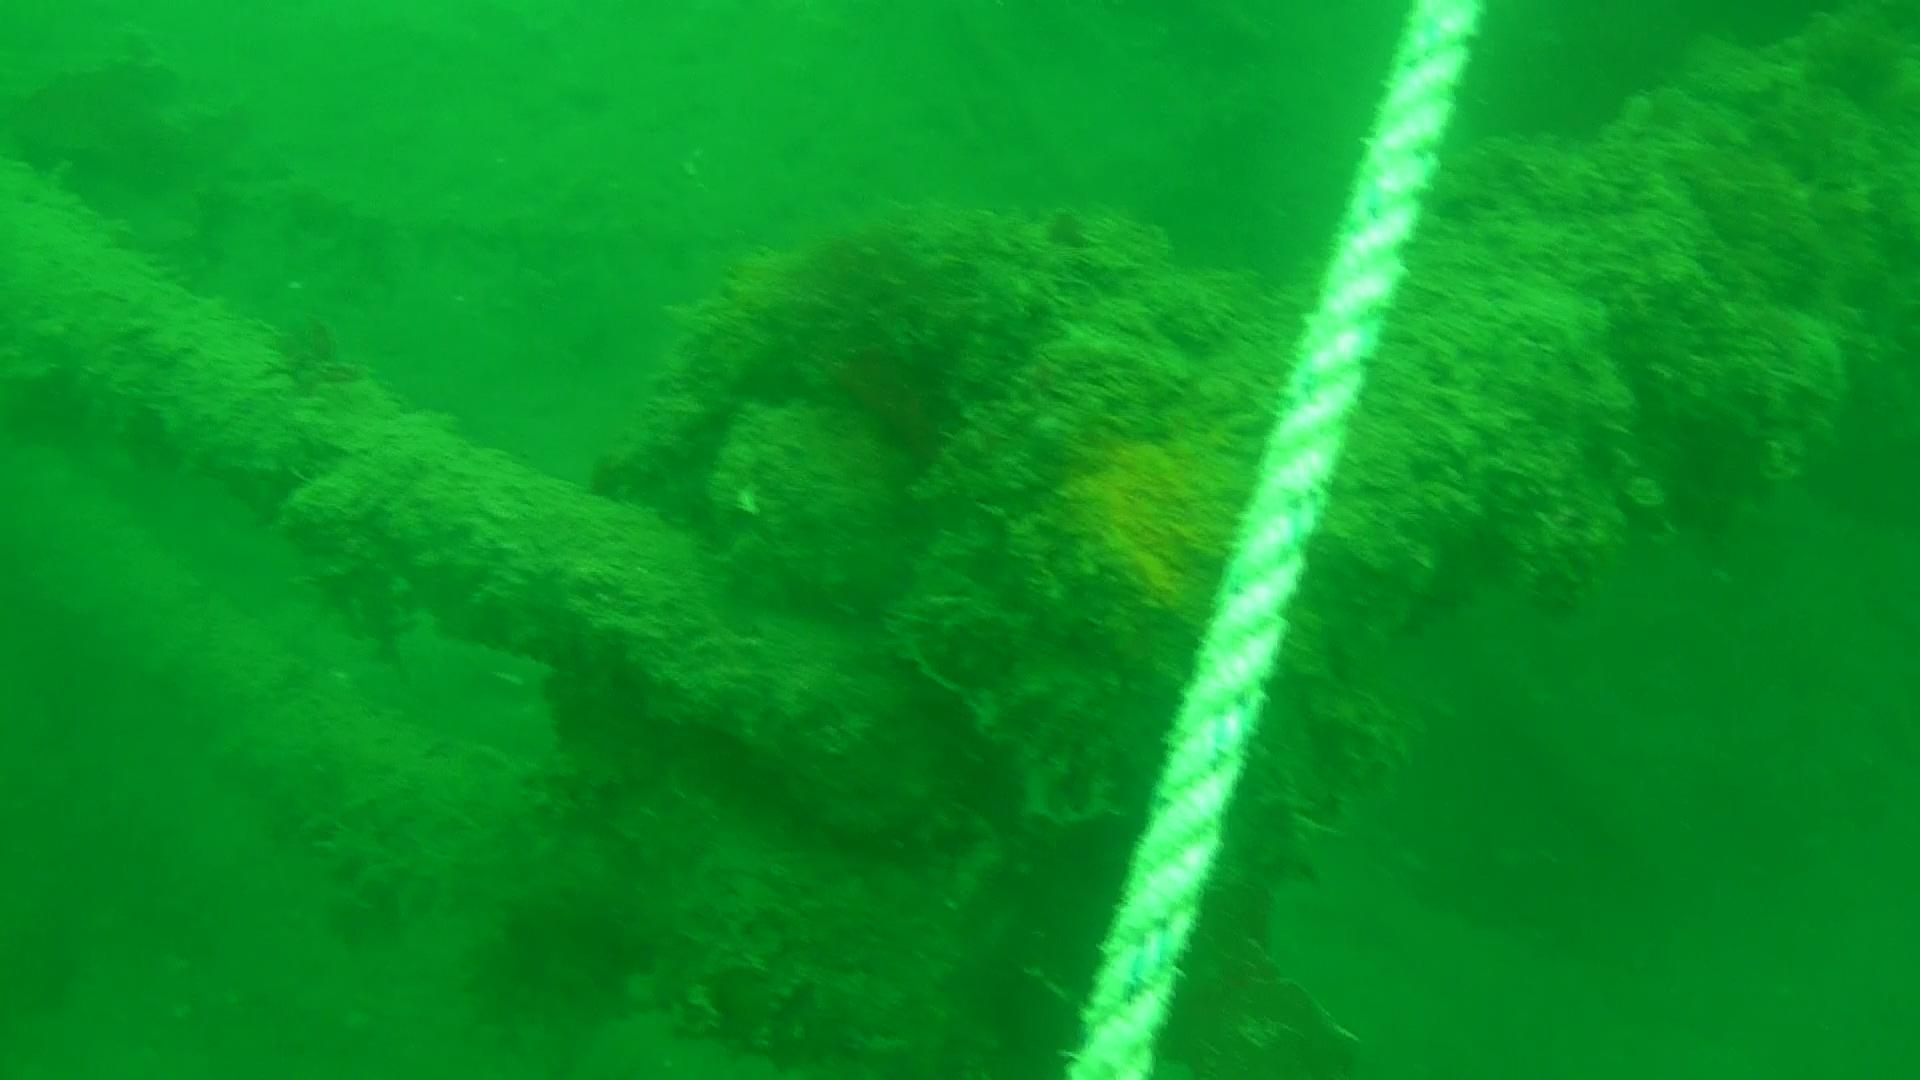rope: (1062, 0, 1486, 1080)
